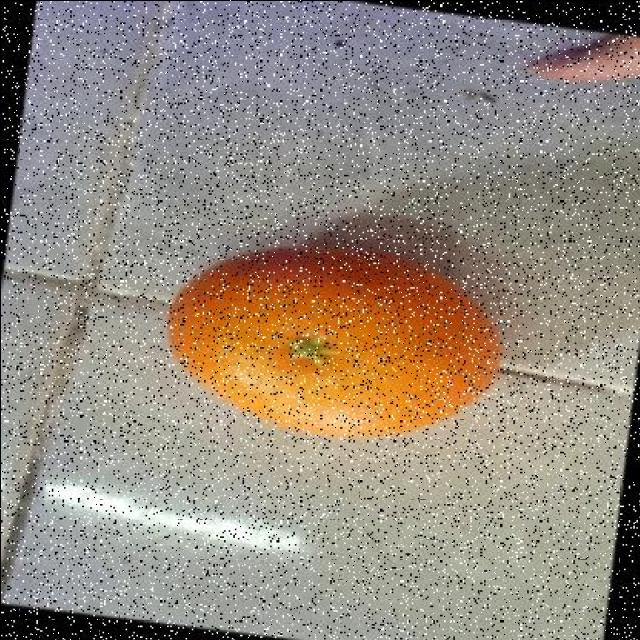Orange: (165, 244, 503, 442)
